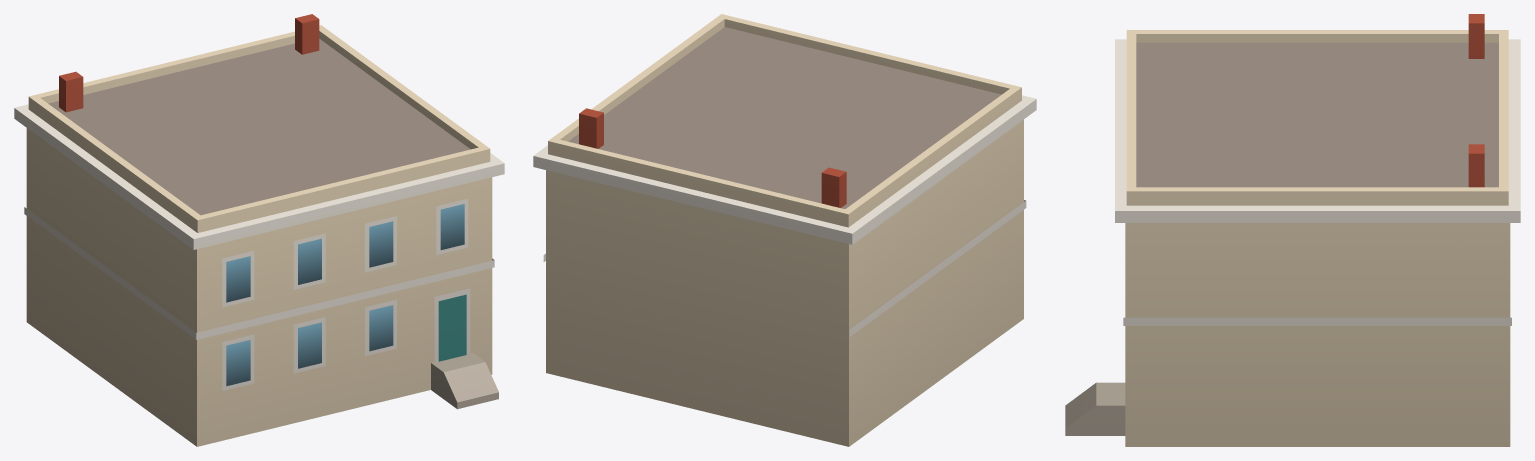
The model's file is beacon_ne4_far.glb.
The picture shows the model from 3 angles, left to right: view 1: azimuth 30°, elevation 25°; view 2: azimuth 150°, elevation 25°; view 3: azimuth 270°, elevation 25°; orthographic projection. The views are drawn at different scales.
Parts seen in each view (by area): view 1: beacon_ne4_far; view 2: beacon_ne4_far; view 3: beacon_ne4_far.
Part boxes in pixels (x1,y1,x2,y2): beacon_ne4_far: (14, 14, 504, 446); beacon_ne4_far: (533, 14, 1036, 446); beacon_ne4_far: (1065, 14, 1520, 446).
Bounding box in the file's own units: 12.64 × 9.69 × 14.18.
Materials: 1 (1 with a texture image).
